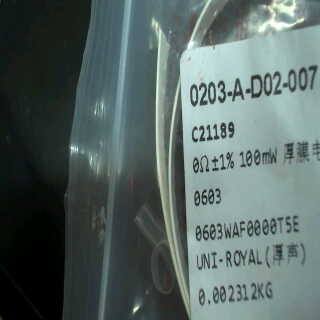0R: (190, 137, 279, 204)
